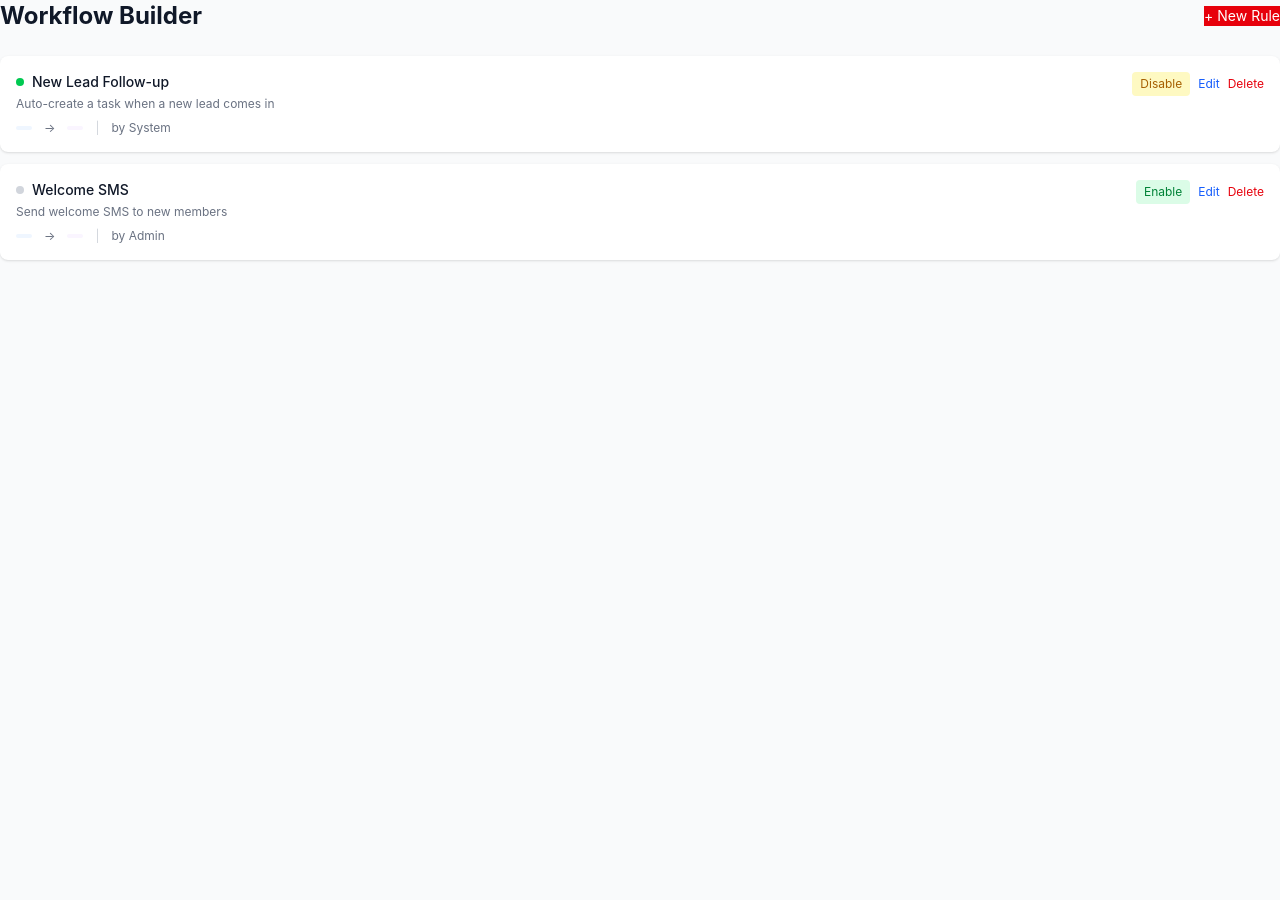
Scenario: WorkflowBuilder Page › opens edit modal with pre-filled data
This screenshot has width=1280, height=900.
Check: the heading "New Lead Follow-up" is shown, box [32,72,169,92]
Click the button "Edit" in the row of "New Lead Follow-up". click: (1209, 84)
box: [1198,76,1220,92]
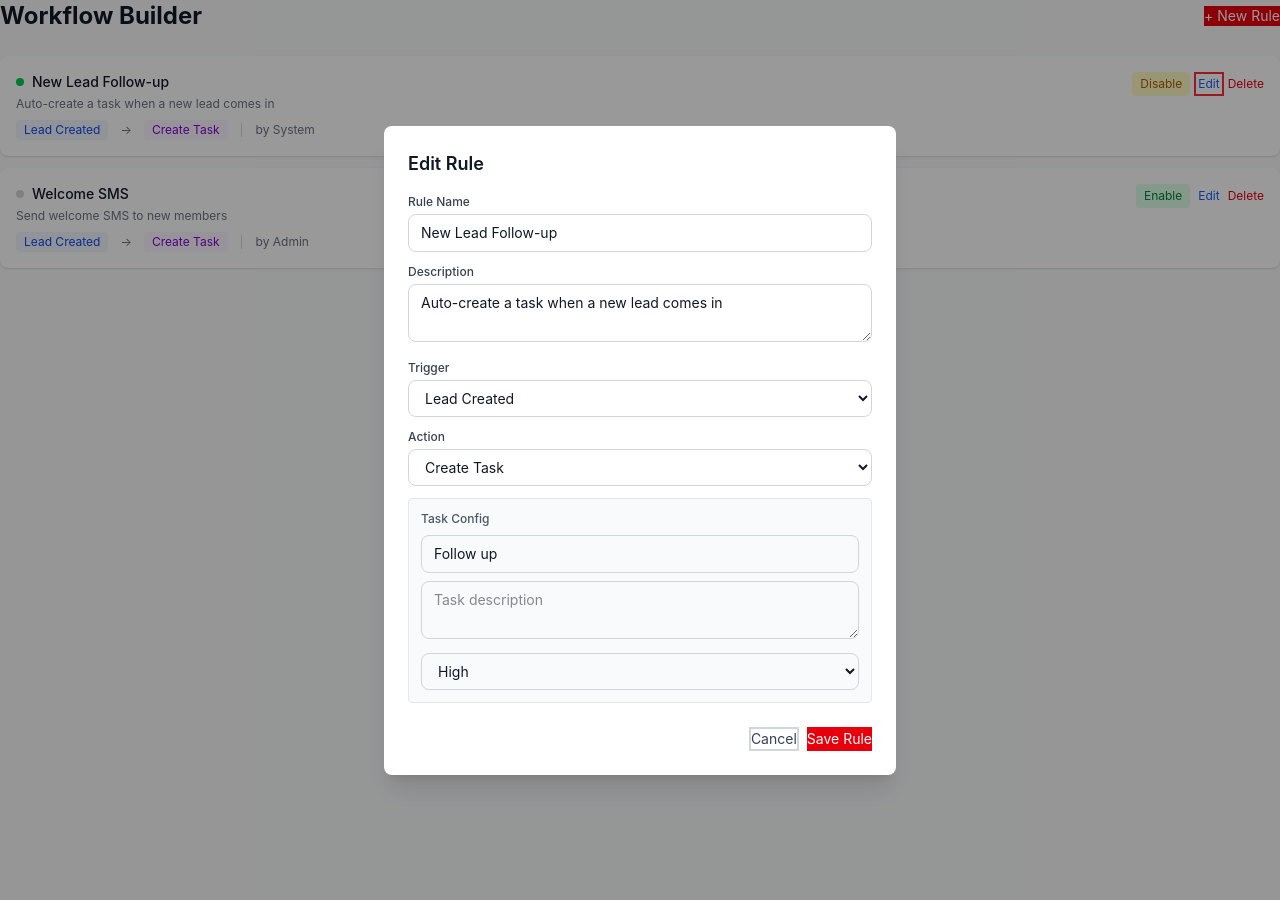
Check: the heading "Edit Rule" is shown, box [408,152,484,174]
Check: the field showing "New Lead Follow-up" below "Rule Name" is shown, box [408,214,872,252]
Check: the text box showing "Auto-create a task" is shown, box [408,284,872,342]
